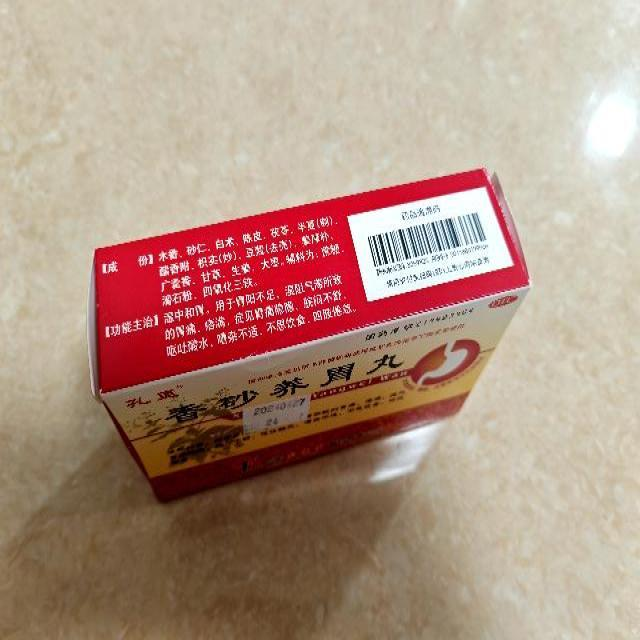box: (90, 168, 532, 502)
